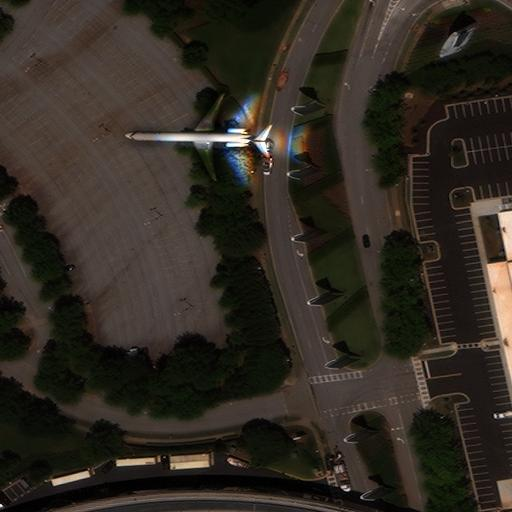Medium Civil Transport: (124, 93, 274, 179)
